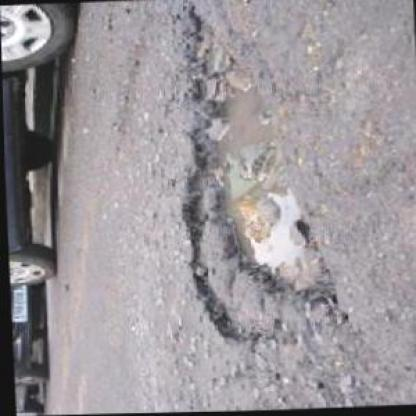pothole: (166, 0, 350, 345)
